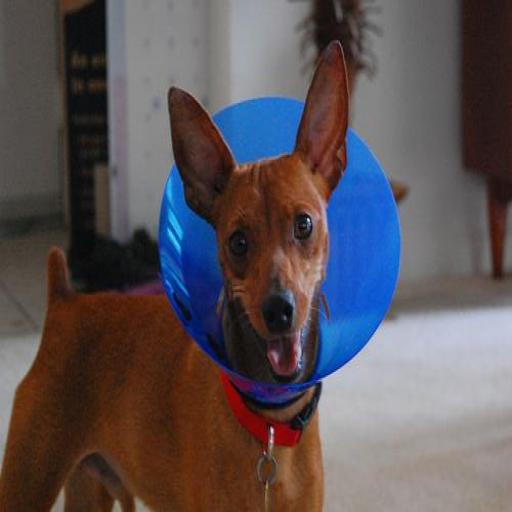dog_face: (167, 58, 354, 380)
